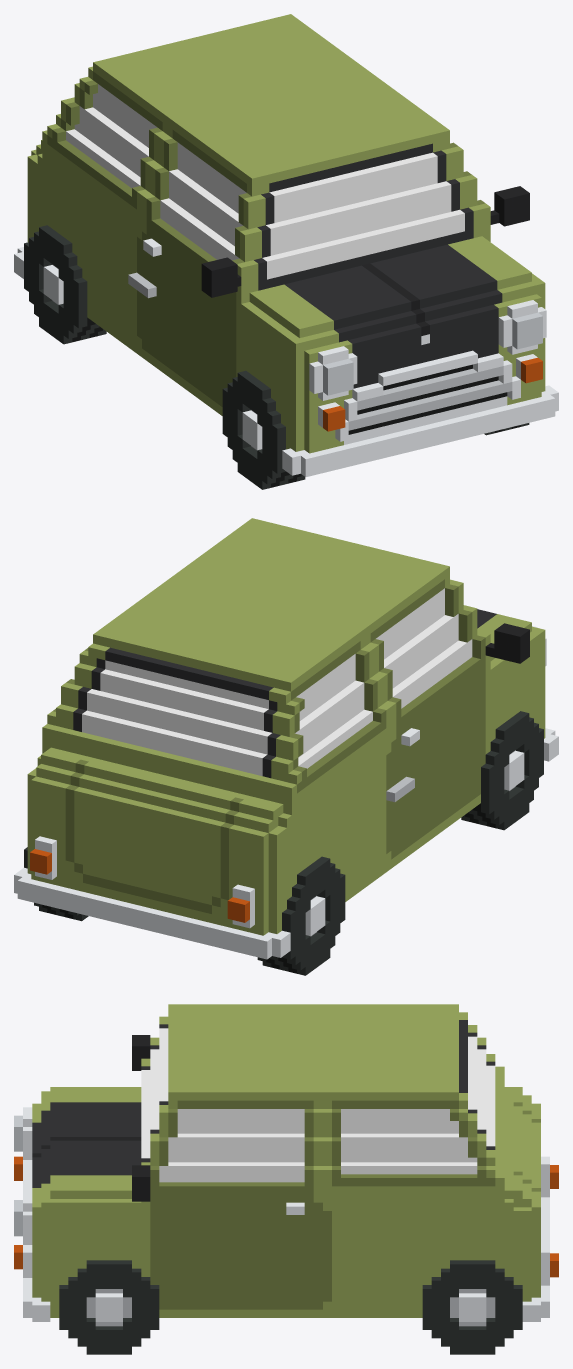
File: mini1000.obj
3 renders of one model, top to bottom at view 1: azimuth 30°, elevation 25°; view 2: azimuth 150°, elevation 25°; view 3: azimuth 270°, elevation 25°, orthographic. The views are drawn at different scales.
Size of the model in its own units: 3.7 by 3 by 6.
1 material, 1 textured.
